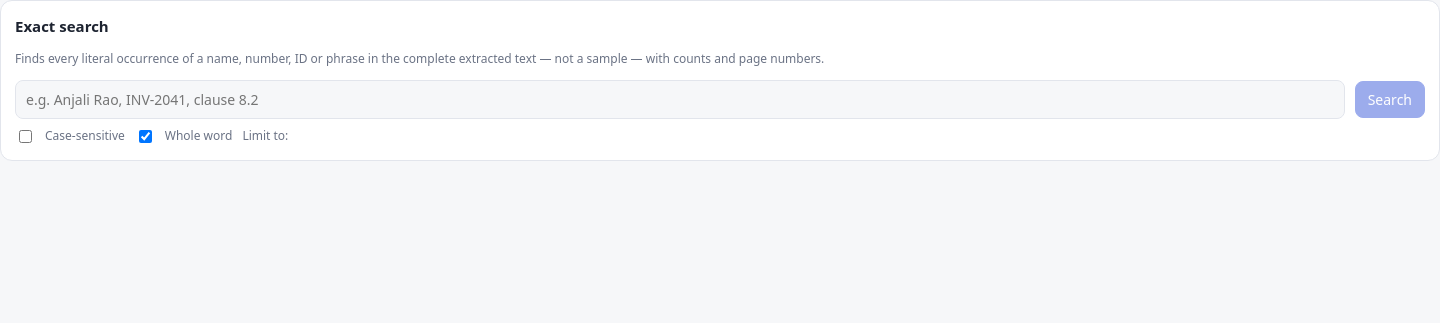
Test: Exact search › reports a zero count honestly and surfaces errors
The width and height of the screenshot is (1440, 323).
Type "zzz" into the field named "Search term". click: (680, 99)
box: x1=15 y1=80 x2=1345 y2=118
Then press Enter
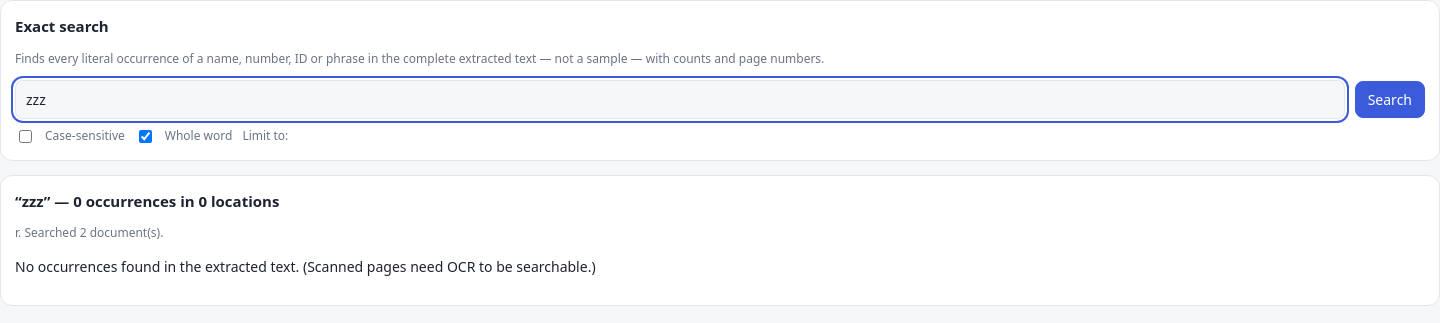
Expected: the text "No occurrences found" is shown, x1=15 y1=257 x2=596 y2=276
Click the button "Search". click: (1390, 99)
box: x1=1355 y1=80 x2=1425 y2=118
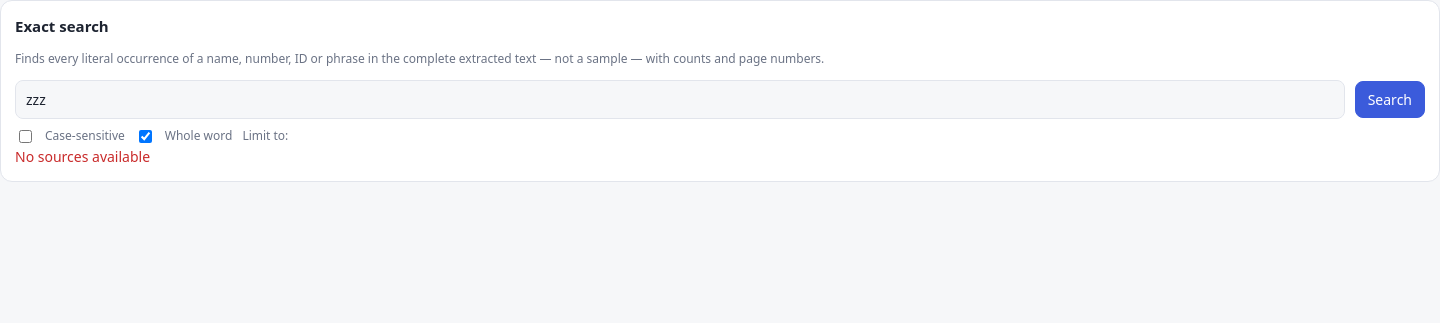
Expected: the message reads "No sources available", x1=15 y1=146 x2=150 y2=166
